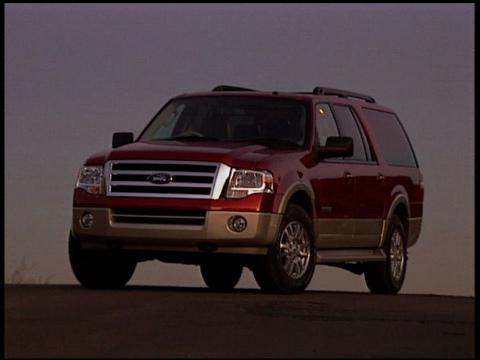Car: (53, 75, 431, 304)
